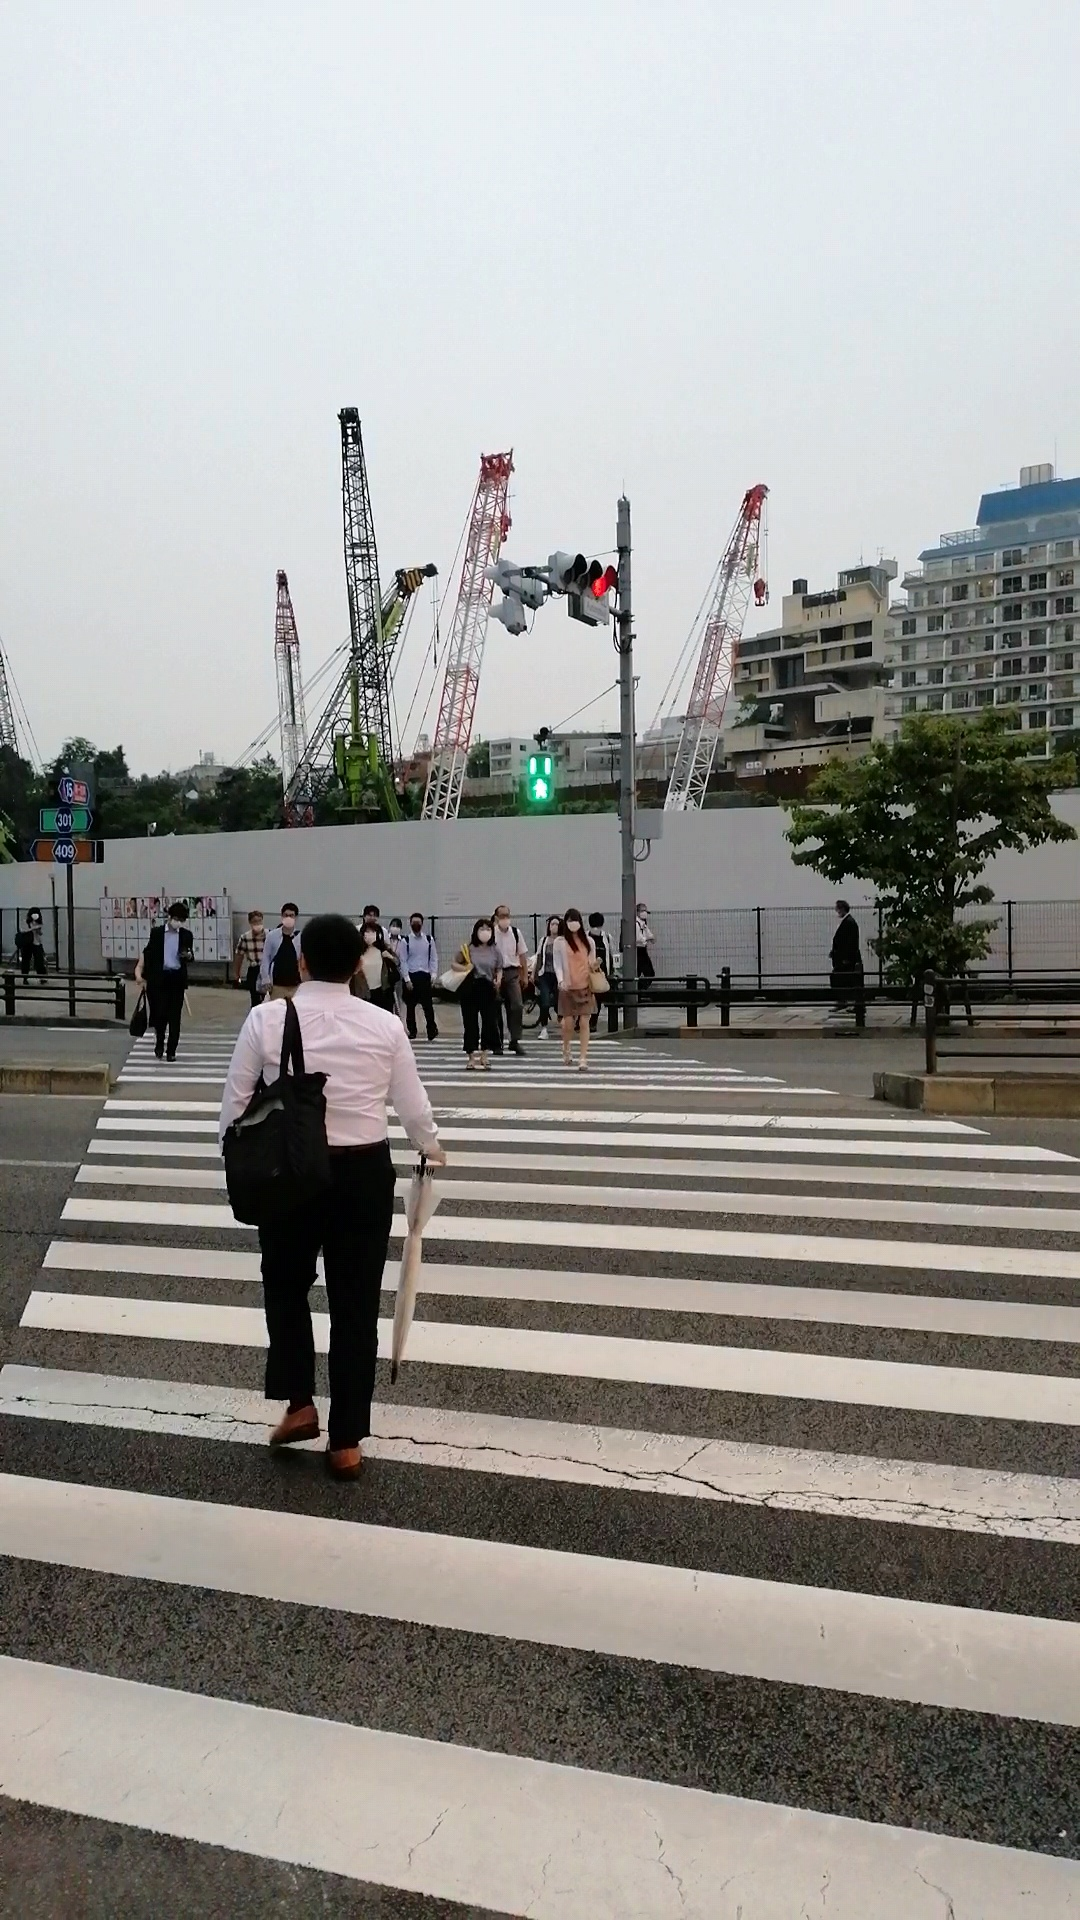green: (525, 749, 555, 803)
